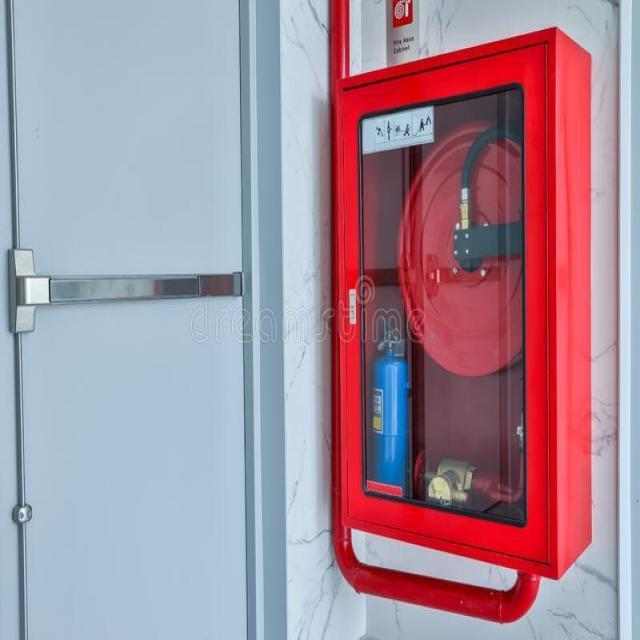FireExtinguisher: (358, 314, 419, 540)
